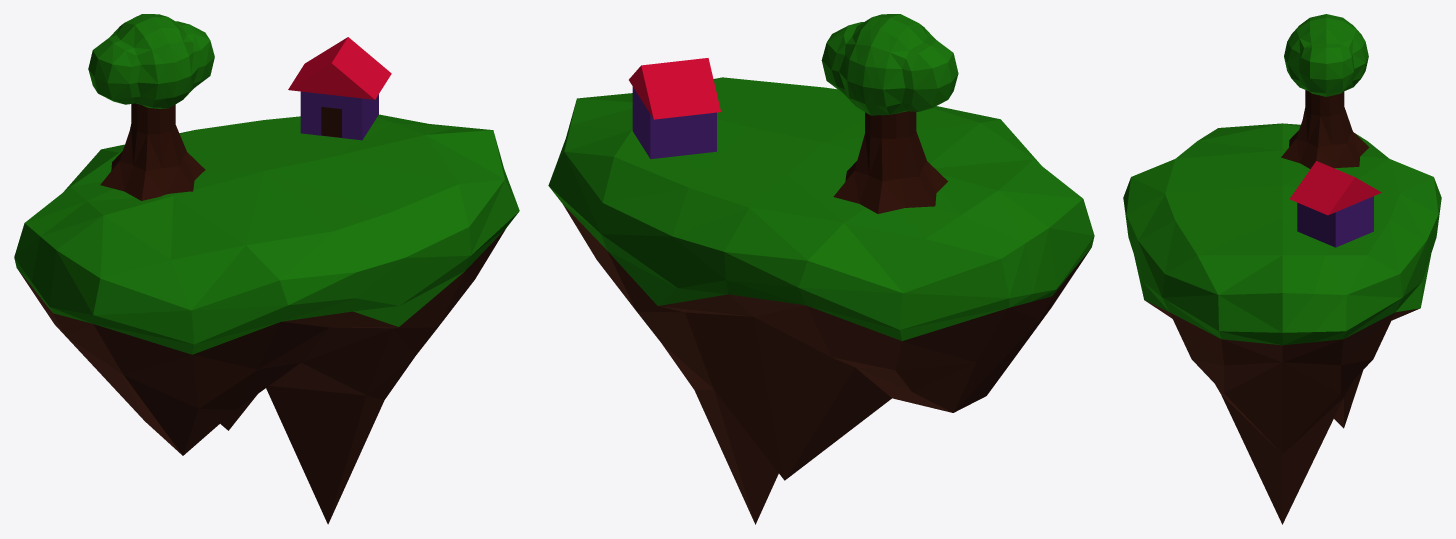
Rendered from 3d renderer island.obj.
The picture shows the model from 3 angles, left to right: view 1: azimuth 30°, elevation 25°; view 2: azimuth 150°, elevation 25°; view 3: azimuth 270°, elevation 25°; orthographic projection. The views are drawn at different scales.
Visible parts, largest first — view 1: Grass, Leaves, Roof, Cube, Door; view 2: Grass, Leaves, Roof, Cube; view 3: Grass, Leaves, Roof, Cube.
Part boxes in pixels (x1,y1,x2,y2): Grass: (14,114,519,524); Leaves: (88,14,214,200); Roof: (288,37,391,99); Cube: (300,91,378,140); Door: (321,107,341,137); Grass: (548,77,1094,524); Leaves: (821,14,958,213); Roof: (629,58,720,119); Cube: (632,87,716,159); Grass: (1123,123,1441,524); Leaves: (1281,14,1369,168); Roof: (1289,161,1381,215); Cube: (1297,196,1373,247).
Size of the model in its own units: 3.63 by 4 by 2.6.
